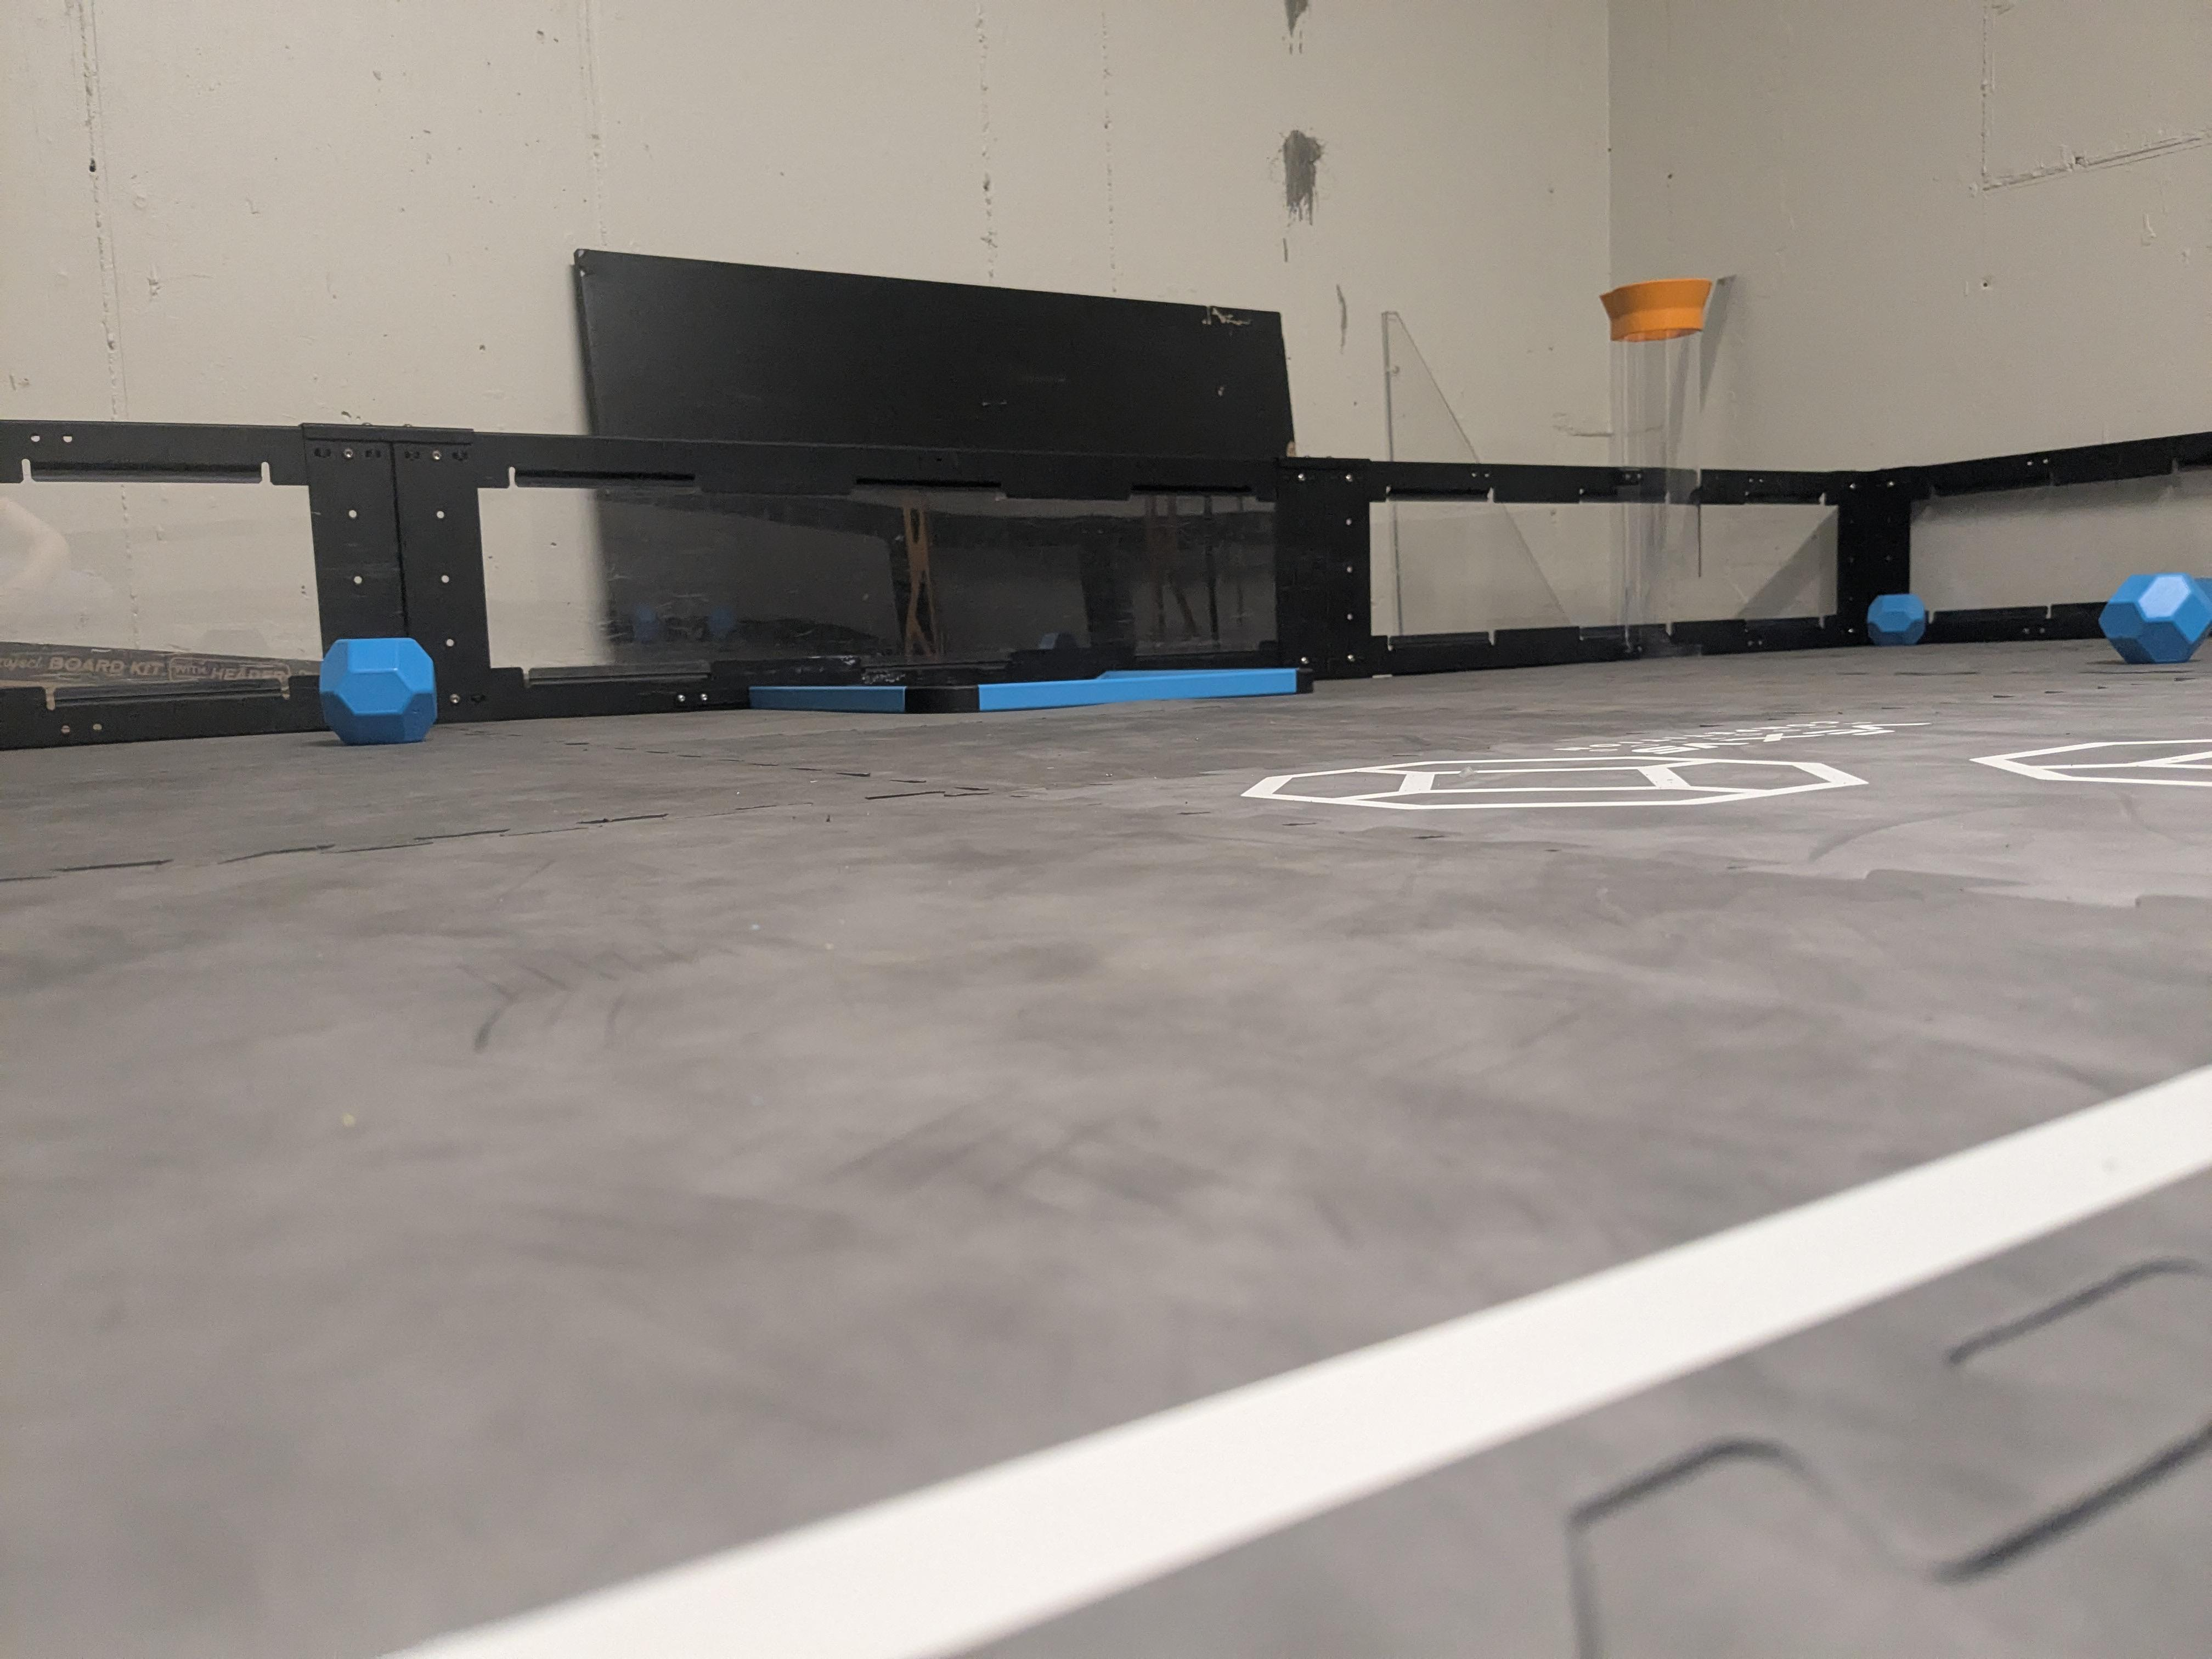Vex-Pieces-BLUE: (324, 638, 439, 744), (2101, 573, 2207, 660), (1867, 592, 1926, 645)
